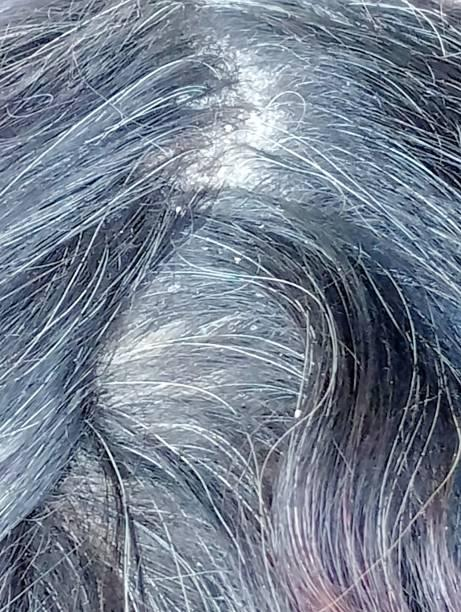dandruff: (164, 42, 313, 222), (83, 287, 340, 375)
